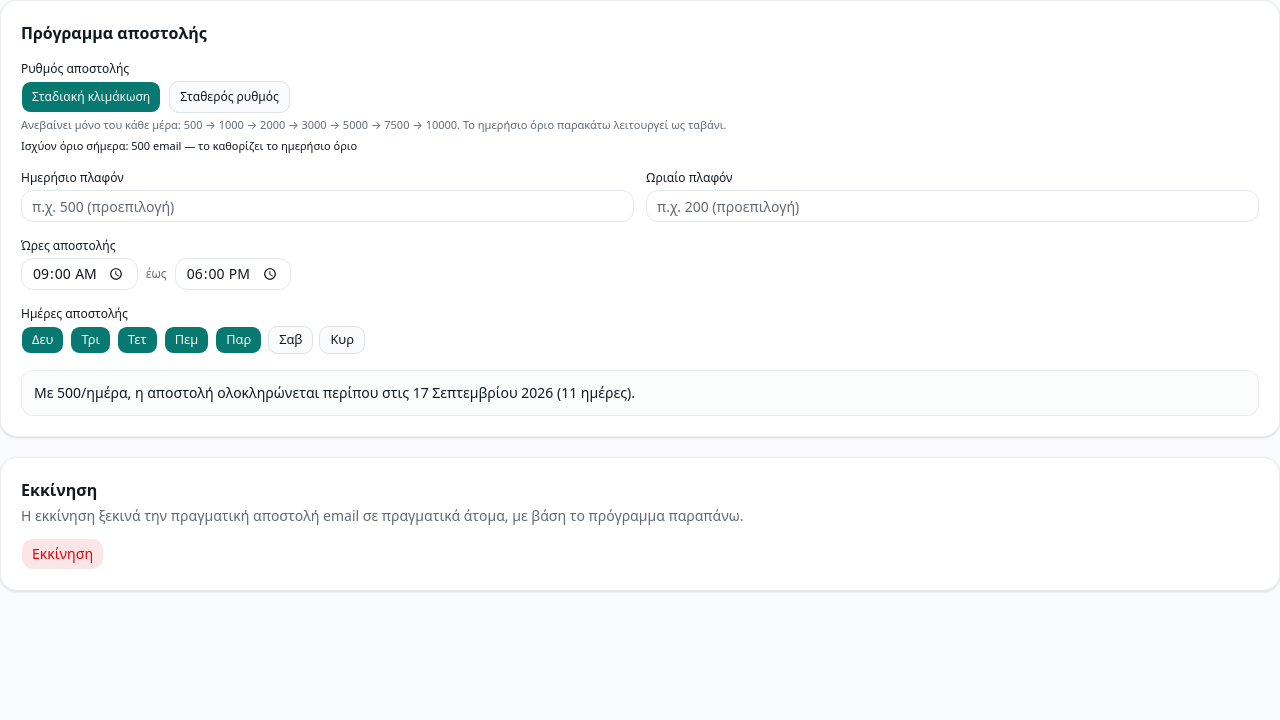
Test case: StepSchedule › the launch confirmation shows the exact recipient count
The image size is (1280, 720).
Click the button "Εκκίνηση".
click(62, 554)  # box x1=21 y1=538 x2=104 y2=570
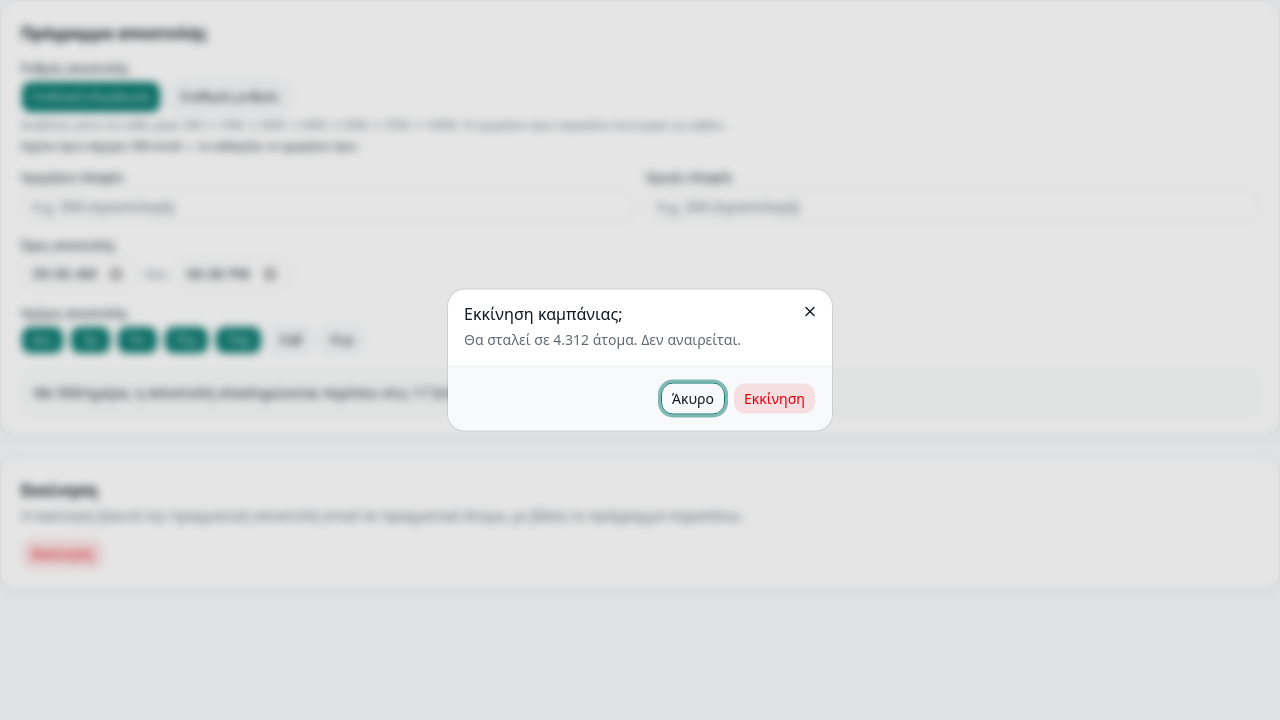
Expected: the text "Θα σταλεί σε 4.312 άτομα. Δεν αναιρείται." is shown, x1=464 y1=330 x2=741 y2=348
